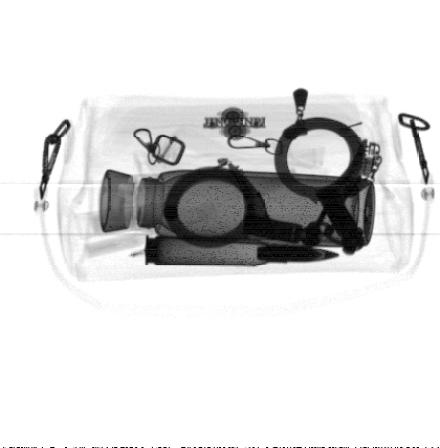Bullet: (143, 235, 342, 267)
HandCuffs: (161, 116, 377, 256)
